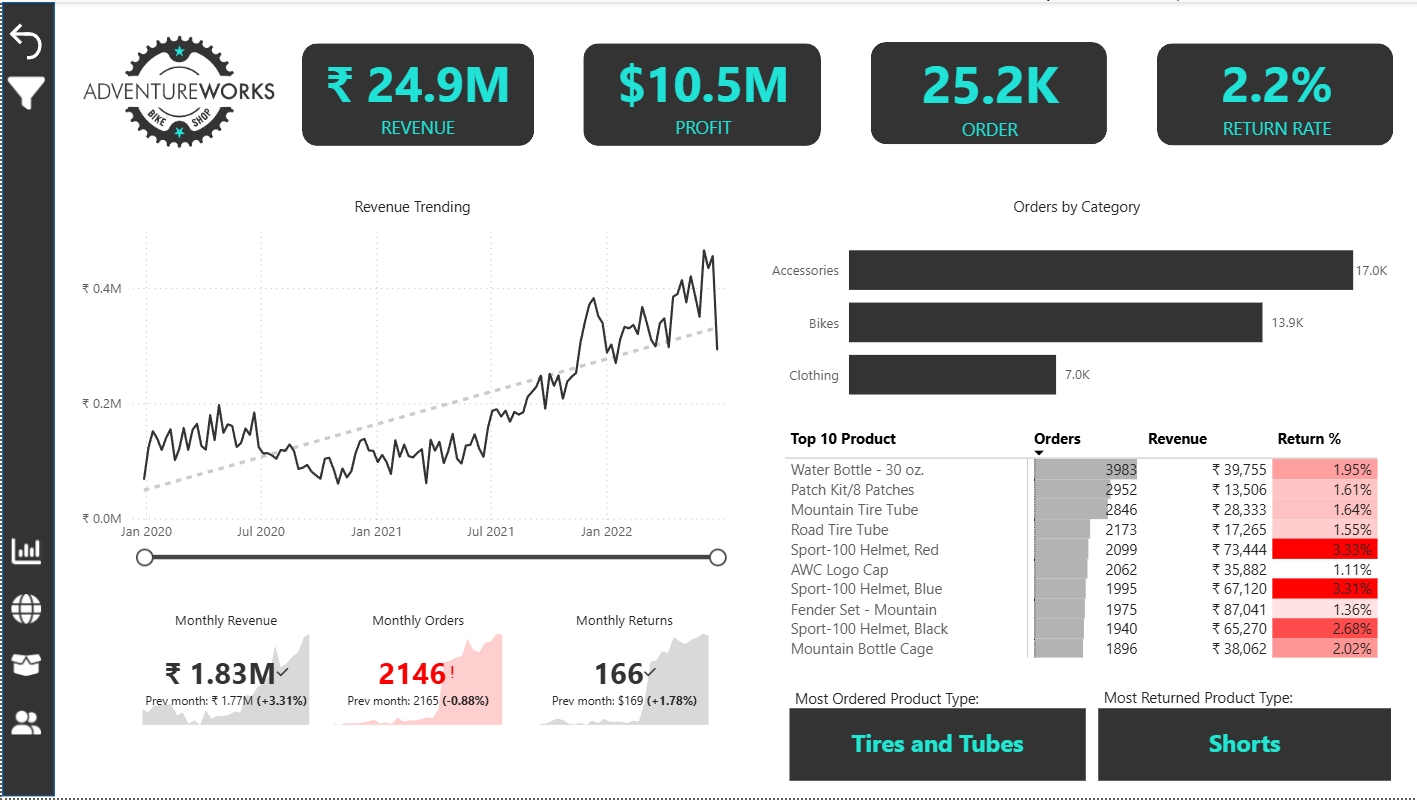

The page's visual inventory and layout, read from the dashboard file:
{"tool":"powerbi","page":{"name":"DASHBOARD","canvas":[1280,720],"ordinal":0},"visuals":[{"type":"image","title":"Aw logo","box":[49.7,0,221.7,162.6],"z":0},{"type":"card","fields":{"Values":["Measure table.Total Revenue"]},"box":[271.2,30.2,210,105],"z":0,"group":"g2"},{"type":"group","id":"g1","title":"KPI background","box":[271,35.8,987,93.8],"z":0,"group":"g3"},{"type":"shape","box":[1044.2,37,213.8,92.5],"z":0,"group":"g1"},{"type":"actionButton","box":[4.7,471.8,34.8,51.5],"z":0,"group":"g4"},{"type":"shape","title":"left bar","box":[0,0,47.8,718.7],"z":1000},{"type":"group","id":"g2","title":"KPI value","box":[271.2,30.1,988.5,105.5],"z":1000,"group":"g3"},{"type":"card","fields":{"Values":["Measure table.Return rate"]},"box":[1046.9,30.1,212.8,105.5],"z":1000,"group":"g2"},{"type":"shape","box":[785.7,35.8,213.8,92.5],"z":1000,"group":"g1"},{"type":"actionButton","box":[4.7,523.3,34.8,51.5],"z":1000,"group":"g4"},{"type":"group","id":"g3","title":"KPIs","box":[271,30.1,988.8,105.5],"z":2000},{"type":"card","fields":{"Values":["Measure table.Total Order"]},"box":[775,30.2,236.2,105],"z":2000,"group":"g2"},{"type":"shape","box":[525.8,36.6,215,93],"z":2000,"group":"g1"},{"type":"actionButton","box":[4.7,574.8,34.8,51.5],"z":2000,"group":"g4"},{"type":"card","fields":{"Values":["Measure table.Total Profit"]},"box":[518.7,30.2,231.2,105],"z":3000,"group":"g2"},{"type":"shape","box":[271,36.6,210,93],"z":3000,"group":"g1"},{"type":"lineChart","title":"Revenue Trending","fields":{"Category":["Calendar Lookup.Start of Month","Calendar Lookup.Start of Week","Calendar Lookup.Year"],"Y":["Measure table.Total Revenue"]},"box":[66.8,175.3,609.4,338.1],"z":3000},{"type":"actionButton","box":[4.7,626.3,34.8,51.5],"z":3000,"group":"g4"},{"type":"kpi","title":"Monthly Revenue","fields":{"Indicator":["Measure table.Total Revenue"],"TrendLine":["Calendar Lookup.Start of Month"],"Goal":["Measure table.Previous month Revenue"]},"box":[122.4,551,161.4,108.5],"z":4000},{"type":"kpi","title":"Monthly Orders","fields":{"TrendLine":["Calendar Lookup.Start of Month"],"Indicator":["Measure table.Total Order"],"Goal":["Measure table.Previous month orders"]},"box":[295,551,162.8,108.5],"z":5000},{"type":"kpi","title":"Monthly Returns","fields":{"TrendLine":["Calendar Lookup.Start of Month"],"Goal":["Measure table.Previous month returns"],"Indicator":["Measure table.Total return"]},"box":[481.4,551,162.8,108.5],"z":6000},{"type":"clusteredBarChart","title":"Orders by Category","fields":{"Category":["Product Categories Lookup.CategoryName"],"Y":["Measure table.Total Order"]},"box":[685.9,175.3,571.8,205.9],"z":7000},{"type":"pivotTable","fields":{"Rows":["Product Lookup.ProductName"],"Values":["Measure table.Total Order","Measure table.Total Revenue","Measure table.Return rate"]},"box":[702.7,380.6,554.5,223.8],"z":8000},{"type":"card","fields":{"Values":["Min(Product Subcategories Lookup.SubcategoryName)"]},"box":[712.7,638.6,268,65.6],"z":9000},{"type":"textbox","box":[712.7,615.8,235.2,32.8],"z":10000},{"type":"card","fields":{"Values":["Min(Product Subcategories Lookup.SubcategoryName)"]},"box":[992.1,638.6,265.1,65.6],"z":11000},{"type":"textbox","box":[991.8,615.5,235.2,32.8],"z":12000},{"type":"actionButton","box":[0,12.8,43.1,46.6],"z":13000},{"type":"group","id":"g4","title":"Navigation","box":[4.7,471.8,34.9,206.2],"z":14000},{"type":"actionButton","box":[1.2,59.4,41.9,45.4],"z":15000}]}

Visuals, with their boxes on the page's 1280x720 design canvas (x1, y1, x2, y2). These are canvas units, not pixel positions in the 1417x800 screenshot, which may show the page scaled, cropped or inside an application window:
"Aw logo" image: <region>50, 0, 271, 163</region>
card - Measure table.Total Revenue: <region>271, 30, 481, 135</region>
"KPI background" group: <region>271, 36, 1258, 130</region>
shape: <region>1044, 37, 1258, 130</region>
actionButton: <region>5, 472, 40, 523</region>
"left bar" shape: <region>0, 0, 48, 719</region>
"KPI value" group: <region>271, 30, 1260, 136</region>
card - Measure table.Return rate: <region>1047, 30, 1260, 136</region>
shape: <region>786, 36, 1000, 128</region>
actionButton: <region>5, 523, 40, 575</region>
"KPIs" group: <region>271, 30, 1260, 136</region>
card - Measure table.Total Order: <region>775, 30, 1011, 135</region>
shape: <region>526, 37, 741, 130</region>
actionButton: <region>5, 575, 40, 626</region>
card - Measure table.Total Profit: <region>519, 30, 750, 135</region>
shape: <region>271, 37, 481, 130</region>
"Revenue Trending" lineChart: <region>67, 175, 676, 513</region>
actionButton: <region>5, 626, 40, 678</region>
"Monthly Revenue" kpi: <region>122, 551, 284, 660</region>
"Monthly Orders" kpi: <region>295, 551, 458, 660</region>
"Monthly Returns" kpi: <region>481, 551, 644, 660</region>
"Orders by Category" clusteredBarChart: <region>686, 175, 1258, 381</region>
pivotTable - Product Lookup.ProductName x Measure table.Total Order: <region>703, 381, 1257, 604</region>
card - Min(Product Subcategories Lookup.SubcategoryName): <region>713, 639, 981, 704</region>
textbox: <region>713, 616, 948, 649</region>
card - Min(Product Subcategories Lookup.SubcategoryName): <region>992, 639, 1257, 704</region>
textbox: <region>992, 616, 1227, 648</region>
actionButton: <region>0, 13, 43, 59</region>
"Navigation" group: <region>5, 472, 40, 678</region>
actionButton: <region>1, 59, 43, 105</region>
